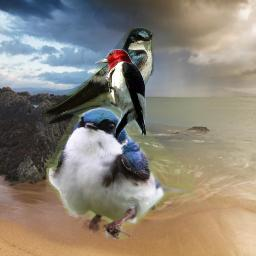Swallow: (46, 107, 196, 239), (42, 27, 154, 126)
Woodpecker: (94, 49, 147, 138)
